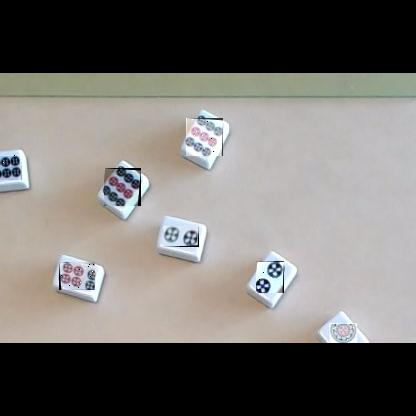1p: (329, 323, 357, 343)
2p: (256, 261, 284, 293), (163, 226, 199, 247)
6p: (59, 262, 95, 290)
8p: (0, 155, 22, 180)
9p: (104, 168, 141, 206), (186, 118, 223, 156)
